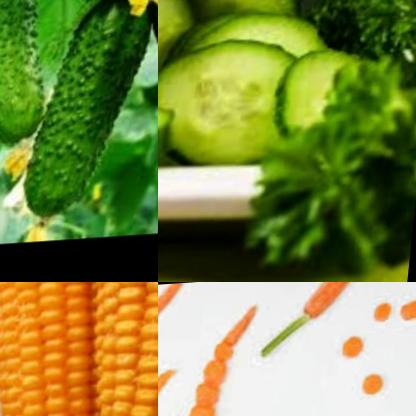carrot: (158, 312, 253, 416), (158, 283, 185, 413), (301, 282, 357, 331), (357, 374, 391, 411), (339, 337, 375, 366), (372, 300, 398, 331), (399, 300, 416, 327)
corn: (0, 282, 136, 416), (64, 282, 158, 416)
cucumber: (158, 0, 374, 184), (21, 0, 158, 243), (0, 0, 61, 172), (185, 0, 411, 35)
